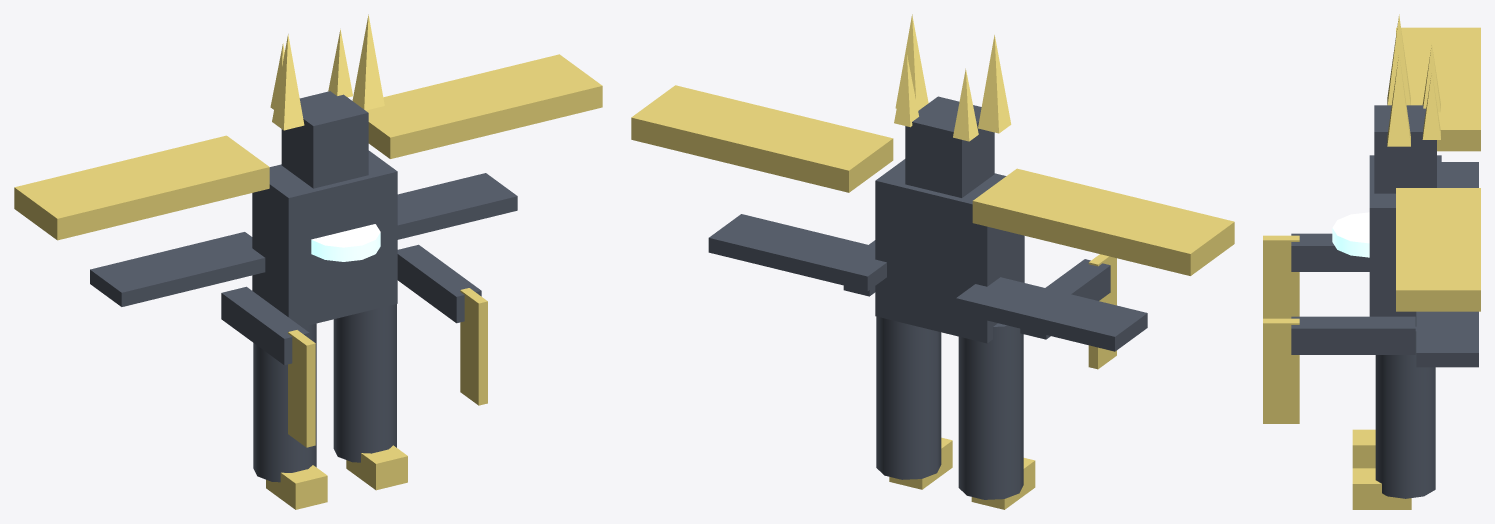
File: boss_matarishvan.glb
3 views of the same model, side by side, from view 1: azimuth 30°, elevation 25°; view 2: azimuth 150°, elevation 25°; view 3: azimuth 270°, elevation 25° (orthographic). The views are drawn at different scales.
Parts seen in each view (by area): view 1: RootNode; view 2: RootNode; view 3: RootNode.
Boxes of the visible parts, x1,y1,x2,y2 form: RootNode: [14, 14, 602, 509]; RootNode: [631, 14, 1234, 509]; RootNode: [1263, 14, 1480, 509].
Bounding box in the file's own units: 4.75 × 3.79 × 1.67.
